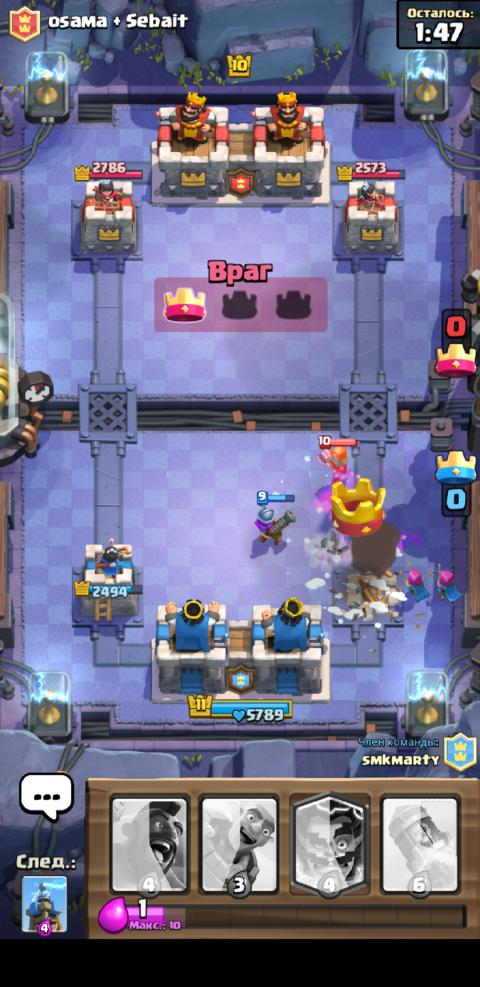ally_archer: (427, 561, 462, 602), (396, 561, 430, 603)
ally_musketeer: (251, 489, 297, 547)
enemy_valkyrie: (315, 434, 357, 483)
